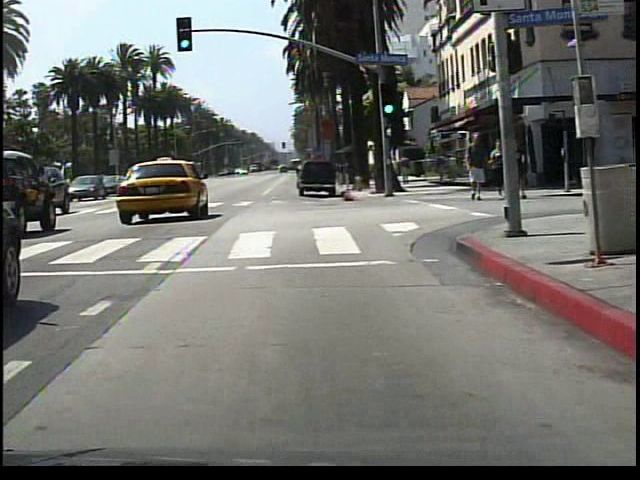person: (460, 131, 490, 207)
